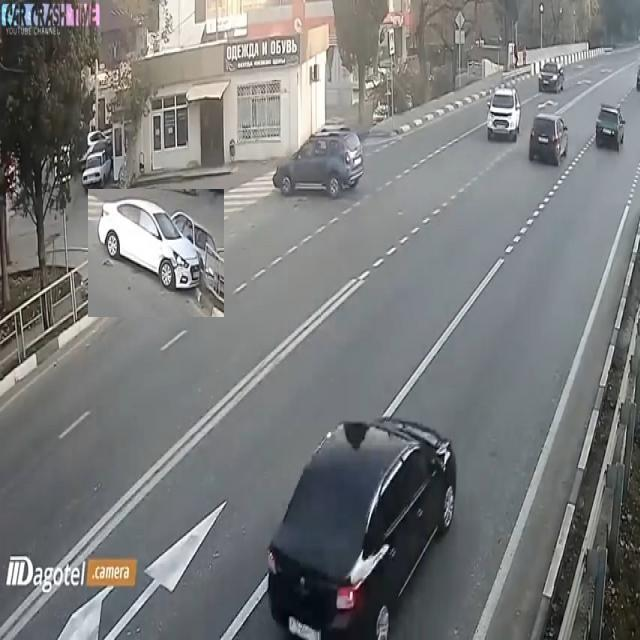accident: (88, 189, 224, 317)
